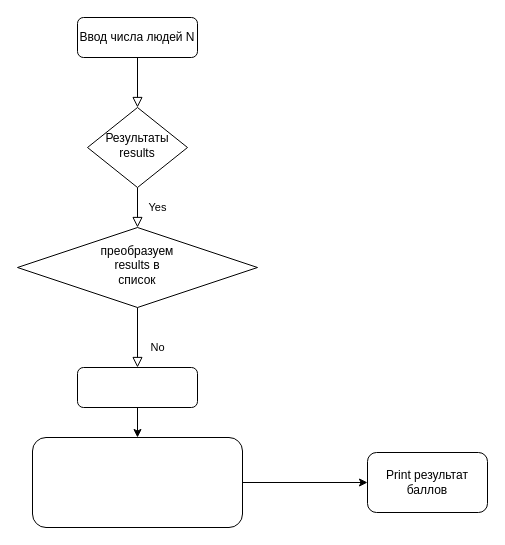
Image size: 505x545. Some labels were removed from this diagram. Each missing label, with the centre of its shape:
"silver = results[1]" belongs at (137,482).
"сортировка списка по убыванию" belongs at (137,387).
